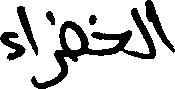X: (93, 5, 131, 60), (16, 1, 36, 88), (38, 6, 59, 88), (147, 0, 174, 63), (61, 16, 85, 85), (133, 0, 145, 63), (0, 27, 14, 65)
